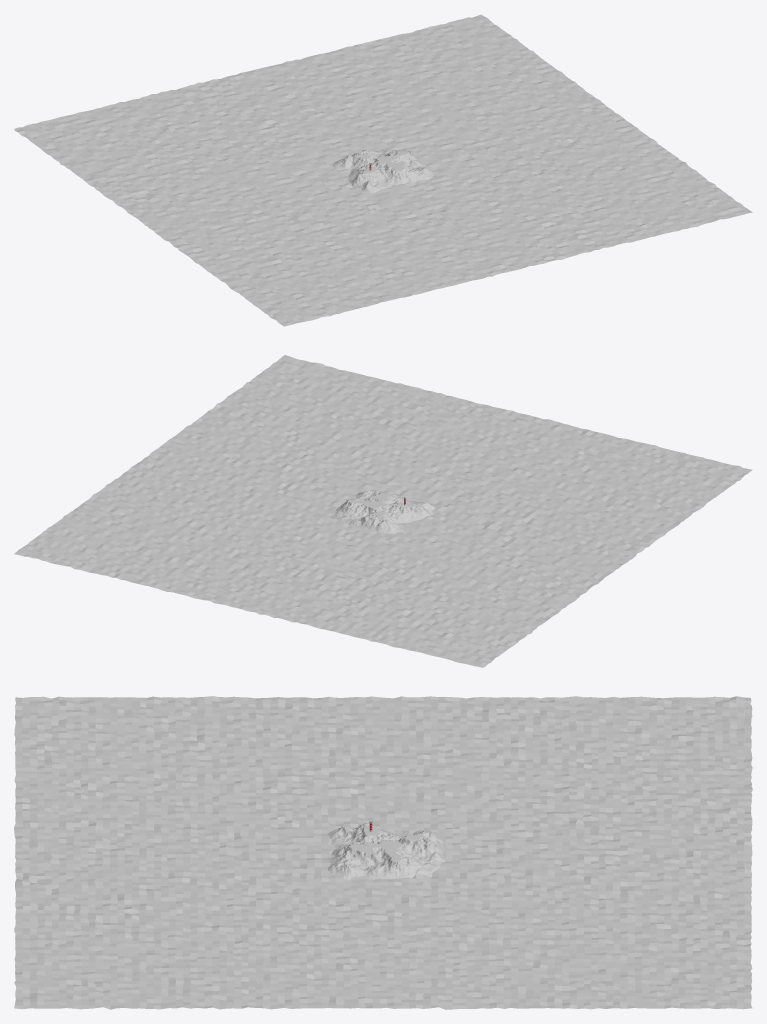
The model's file is BrezeeMap.fbx.
The picture shows the model from 3 angles, top to bottom: view 1: azimuth 30°, elevation 25°; view 2: azimuth 150°, elevation 25°; view 3: azimuth 270°, elevation 25°; orthographic projection. The views are drawn at different scales.
Parts seen in each view (by area): view 1: Plane.001, Plane; view 2: Plane.001, Plane; view 3: Plane.001, Plane.
Boxes of the visible parts, bbox=[...] form: Plane.001: bbox=[14, 14, 752, 326]; Plane: bbox=[332, 149, 434, 192]; Plane.001: bbox=[14, 355, 752, 667]; Plane: bbox=[330, 490, 435, 534]; Plane.001: bbox=[14, 696, 752, 1009]; Plane: bbox=[322, 822, 445, 880].
Bounding box in the file's own units: 5721 × 195 × 5722.
